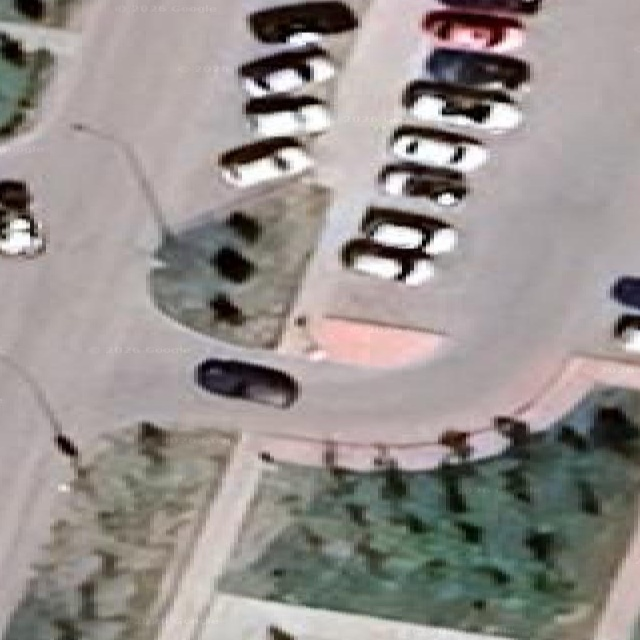car: (403, 80, 520, 131), (239, 45, 335, 96), (196, 359, 298, 407), (218, 136, 312, 187), (247, 0, 356, 43), (360, 207, 455, 255), (390, 125, 487, 172), (423, 9, 523, 51), (343, 238, 432, 284), (377, 161, 467, 206), (426, 48, 527, 88), (243, 96, 329, 136), (0, 179, 44, 256), (0, 209, 44, 256), (209, 248, 253, 283), (492, 415, 531, 452), (224, 209, 263, 243), (439, 0, 540, 13), (207, 292, 244, 326), (468, 428, 507, 460), (136, 420, 167, 457), (437, 428, 472, 459), (613, 313, 639, 352), (0, 179, 31, 211), (0, 32, 27, 65), (611, 276, 639, 307), (12, 0, 51, 20), (55, 432, 79, 462), (287, 31, 320, 47), (266, 624, 295, 639), (68, 443, 77, 456), (59, 446, 62, 447), (267, 453, 268, 455)
